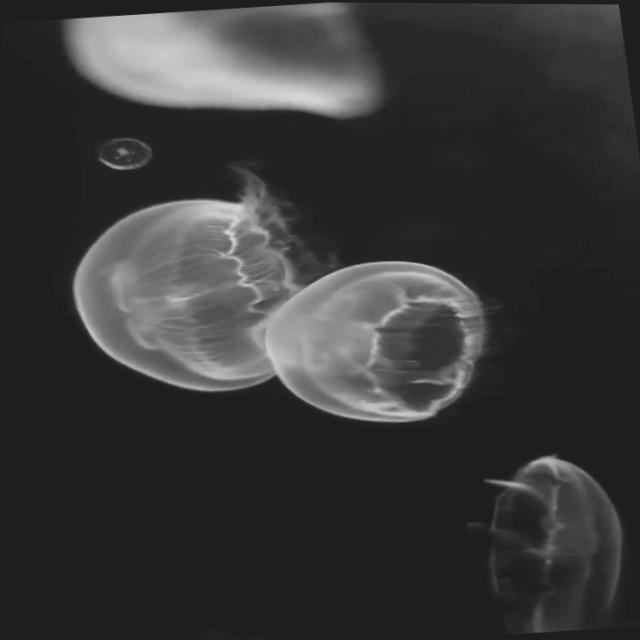Moon-jellyfish: (70, 180, 477, 420), (56, 2, 385, 117), (274, 257, 480, 416), (466, 453, 621, 634), (86, 131, 155, 169)
